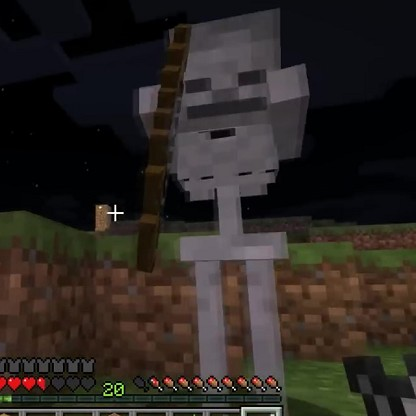skeleton: (135, 7, 319, 377)
